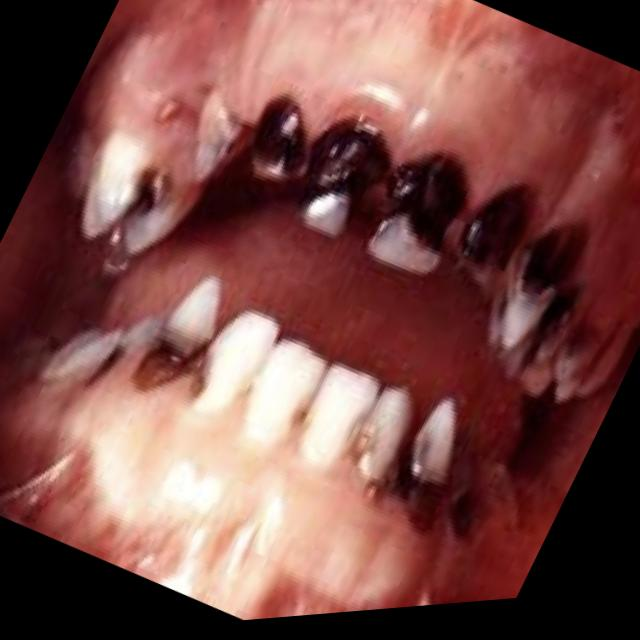cariess: (121, 86, 635, 400), (356, 423, 476, 534), (139, 276, 222, 393)
